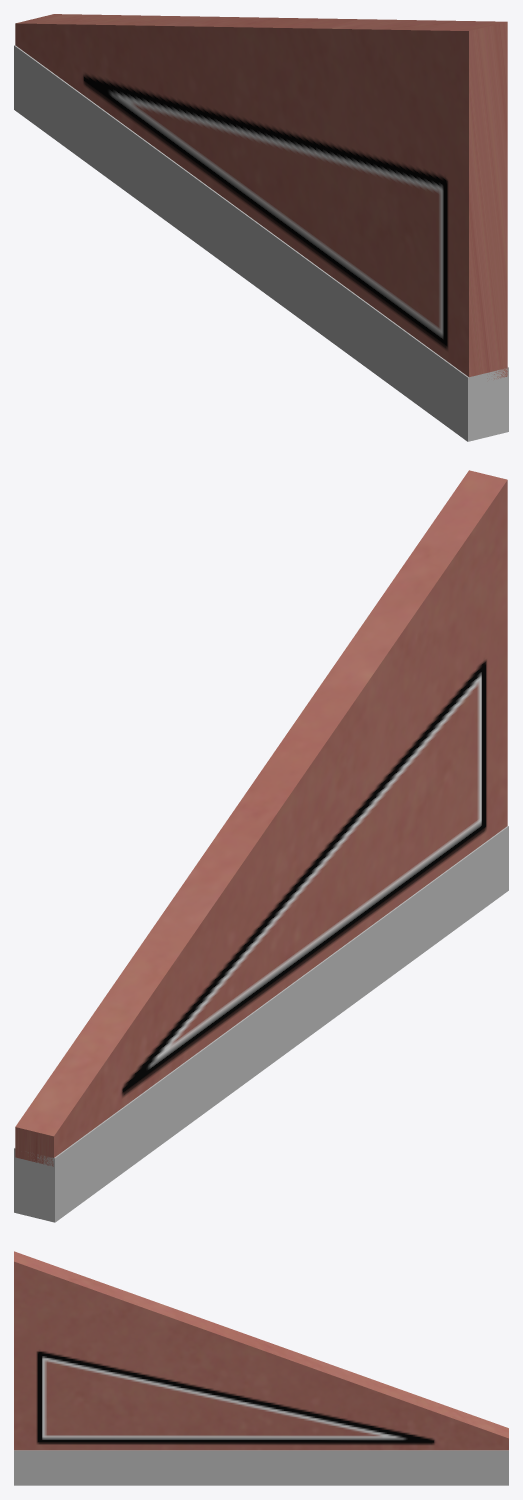
Rendered from SM_Wall03U.fbx.
3 views of the same model, one above another, from view 1: azimuth 30°, elevation 25°; view 2: azimuth 150°, elevation 25°; view 3: azimuth 270°, elevation 25° (orthographic). The views are drawn at different scales.
Parts seen in each view (by area): view 1: SM_Wall03U; view 2: SM_Wall03U; view 3: SM_Wall03U.
Part boxes in pixels (x1=…): SM_Wall03U: x1=14, y1=14, x2=508, y2=441; SM_Wall03U: x1=14, y1=470, x2=508, y2=1222; SM_Wall03U: x1=14, y1=1251, x2=508, y2=1485.
Bounding box in the file's own units: 8.99 × 172 × 85.71.
